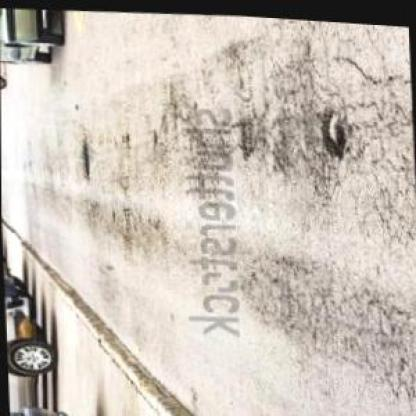pothole: (316, 100, 351, 155), (76, 136, 93, 179)
